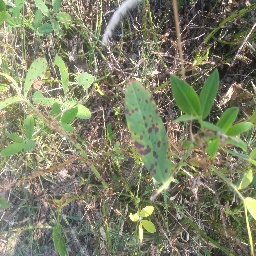GroundNut_Leaf: (123, 78, 172, 180), (174, 75, 202, 123), (23, 57, 49, 101), (204, 69, 221, 118), (51, 227, 67, 255), (223, 107, 239, 132), (61, 108, 78, 126), (240, 195, 256, 214), (139, 219, 159, 233), (1, 1, 9, 24), (37, 23, 55, 32)
